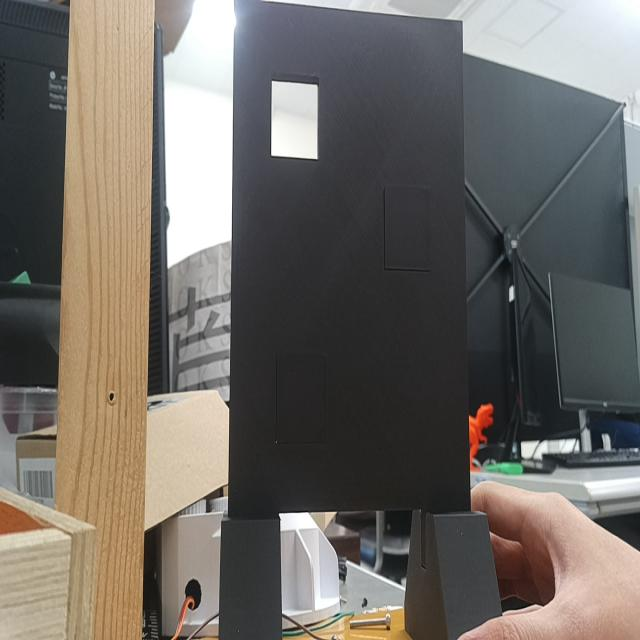Obstacle: (271, 82, 318, 158)
Wall: (230, 0, 469, 518)
